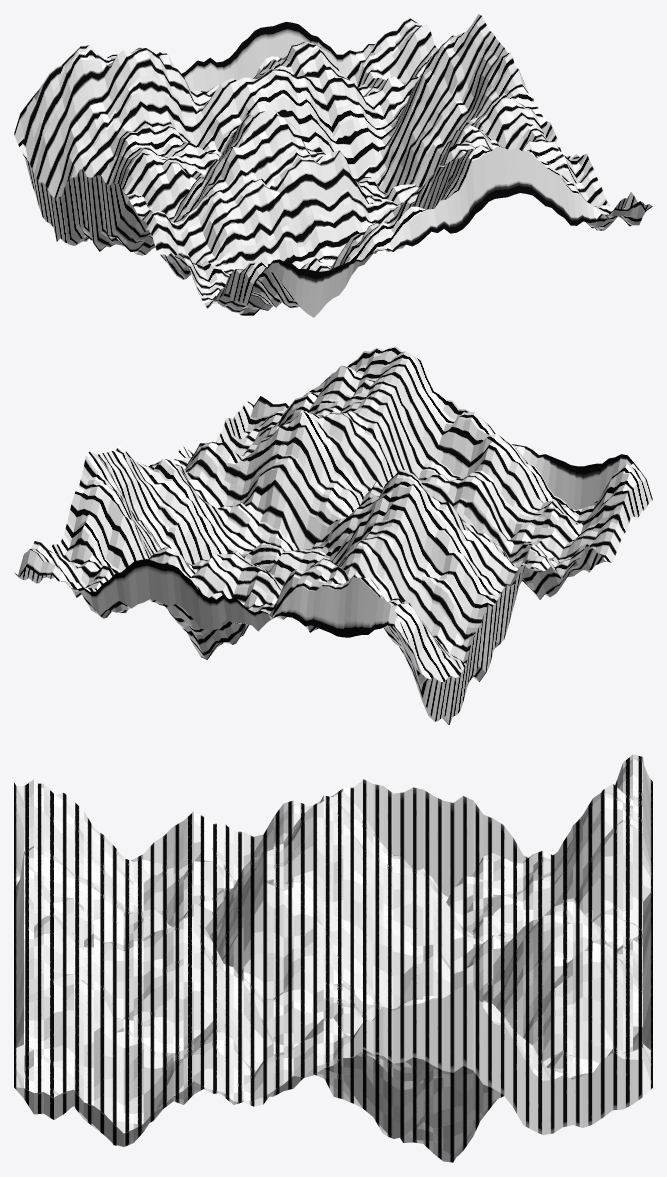
The model's file is terrain.glb.
3 renders of one model, top to bottom at view 1: azimuth 30°, elevation 25°; view 2: azimuth 150°, elevation 25°; view 3: azimuth 270°, elevation 25°, orthographic. The views are drawn at different scales.
Visible parts, largest first — view 1: Plane; view 2: Plane; view 3: Plane.
Boxes of the visible parts, bbox=[...] form: Plane: bbox=[14, 14, 652, 317]; Plane: bbox=[15, 346, 652, 724]; Plane: bbox=[14, 754, 652, 1162].
Size of the model in its own units: 27.55 by 13.49 by 27.55.
1 material, 1 textured.
